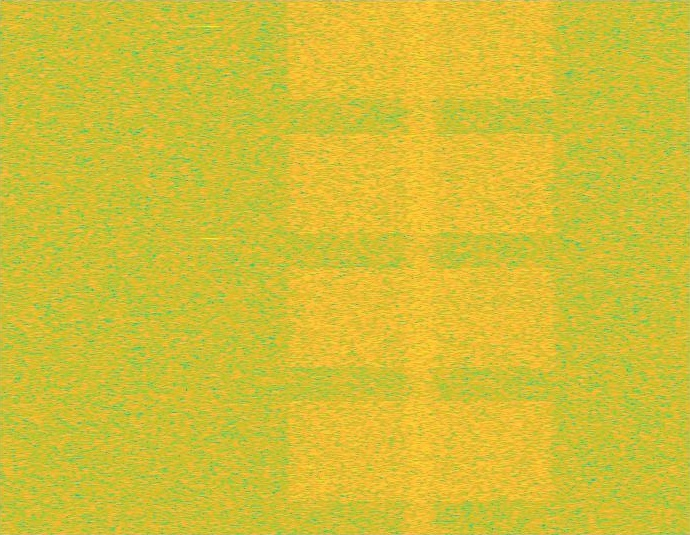5G: (283, 0, 559, 534)
DSSS: (402, 0, 440, 534)
Radar: (203, 0, 217, 534)
